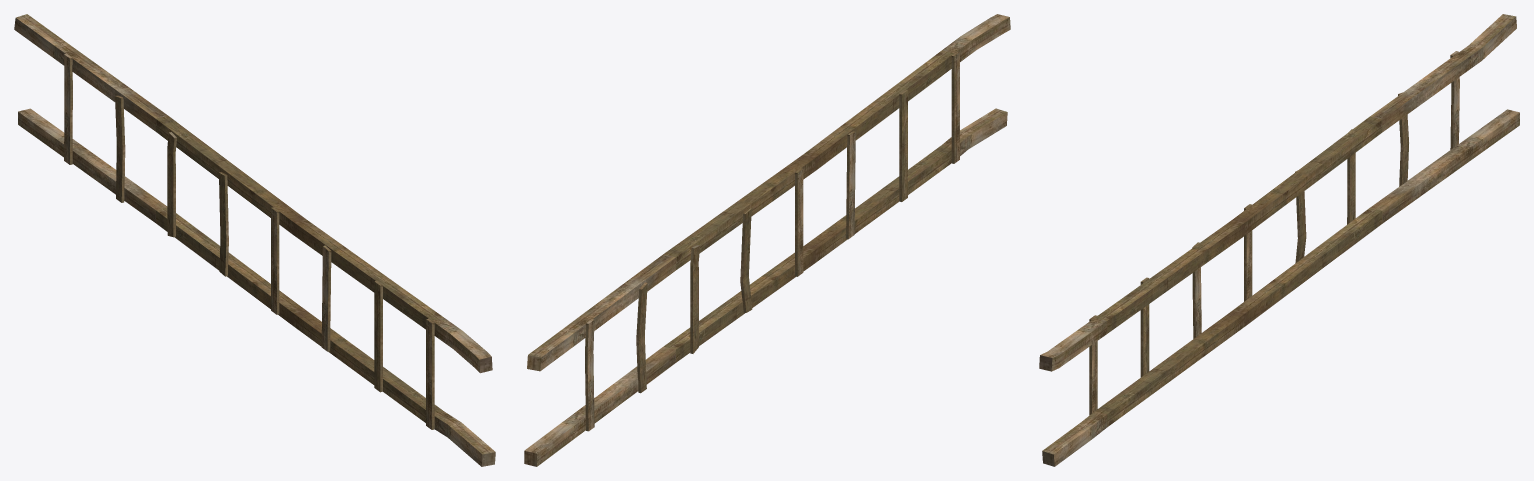
Rendered from prop_ladder_wood_16_ft.glb.
The picture shows the model from 3 angles, left to right: view 1: azimuth 30°, elevation 25°; view 2: azimuth 150°, elevation 25°; view 3: azimuth 330°, elevation 25°; orthographic projection.
Size of the model in its own units: 4.67 by 28.32 by 217.
Materials: 1 (1 with a texture image).
